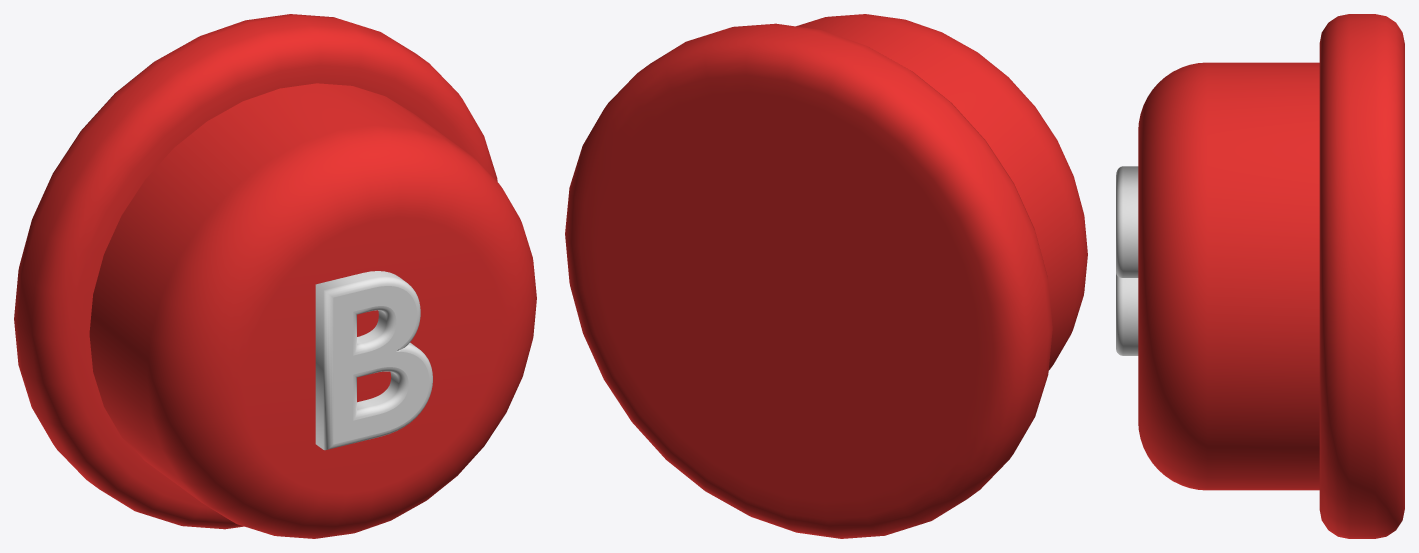
The picture shows the model from 3 angles, left to right: view 1: azimuth 30°, elevation 25°; view 2: azimuth 150°, elevation 25°; view 3: azimuth 270°, elevation 25°; orthographic projection. The views are drawn at different scales.
Parts seen in each view (by area): view 1: Cylinder.010, Text.033; view 2: Cylinder.010; view 3: Cylinder.010, Text.033.
Part boxes in pixels (x1=…): Cylinder.010: x1=14, y1=14, x2=536, y2=538; Text.033: x1=315, y1=271, x2=432, y2=450; Cylinder.010: x1=565, y1=14, x2=1087, y2=538; Cylinder.010: x1=1138, y1=14, x2=1404, y2=538; Text.033: x1=1116, y1=166, x2=1138, y2=355.
Size of the model in its own units: 7.3 by 7.3 by 4.01.
